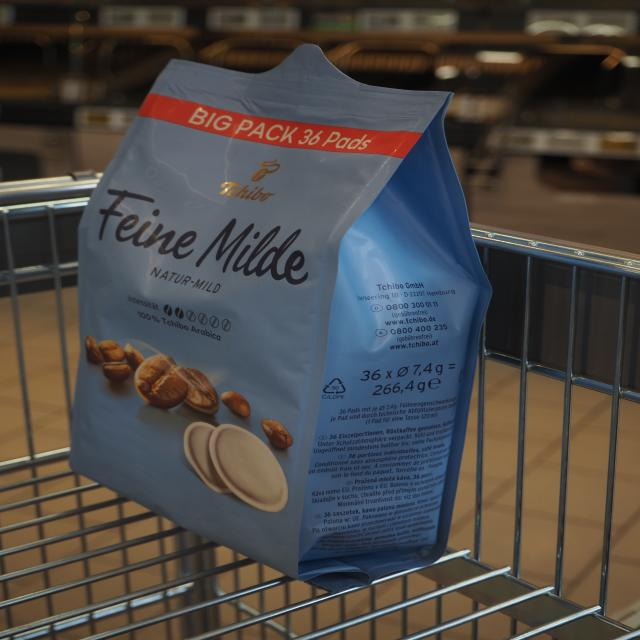FM 36 Pads: (62, 36, 500, 600)
